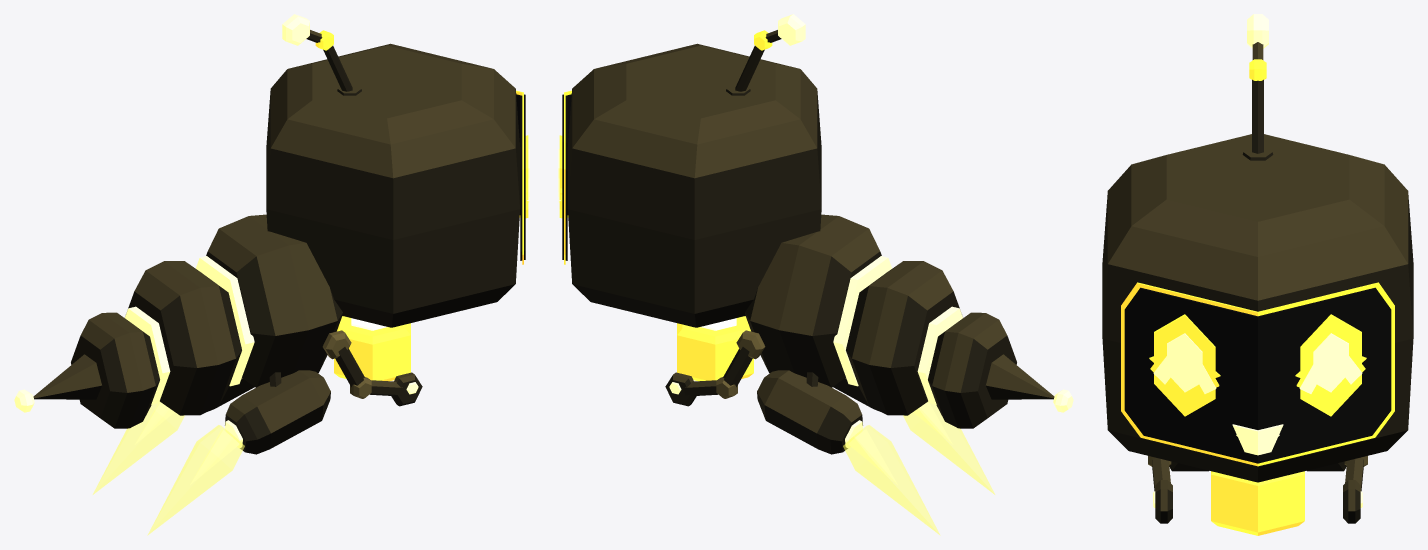
The model's file is buzz.glb.
3 renders of one model, left to right at view 1: azimuth 30°, elevation 25°; view 2: azimuth 150°, elevation 25°; view 3: azimuth 270°, elevation 25°, orthographic. The views are drawn at different scales.
Visible parts, largest first — view 1: Head, Body, JetR, FlameR, Job, FlameL, ArmR, Antenna, Visor; view 2: Head, Body, JetL, FlameL, Job, FlameR, ArmL, Antenna, Visor; view 3: Head, Visor, Job, EyeL, EyeR, Antenna, ArmL, ArmR, Mouth_Happy, EyeL_Happy, EyeR_Happy, Mouth.
Part boxes in pixels (x1,y1,x2,y2): Head: (266, 43, 520, 327); Body: (14, 214, 342, 428); JetR: (225, 370, 330, 454); FlameR: (147, 425, 244, 535); Job: (334, 316, 410, 381); FlameL: (93, 402, 184, 494); ArmR: (322, 330, 422, 406); Antenna: (282, 14, 361, 95); Visor: (516, 90, 525, 264); Head: (567, 43, 821, 327); Body: (745, 214, 1073, 428); JetL: (757, 370, 862, 454); FlameL: (843, 425, 940, 535); Job: (677, 316, 753, 381); FlameR: (903, 402, 994, 494); ArmL: (665, 330, 765, 406); Antenna: (726, 14, 805, 95); Visor: (562, 90, 571, 264); Head: (1102, 134, 1413, 482); Visor: (1121, 282, 1394, 466); Job: (1211, 471, 1304, 535); EyeL: (1300, 314, 1361, 416); EyeR: (1154, 314, 1215, 416); Antenna: (1242, 14, 1273, 160); ArmL: (1343, 456, 1367, 523); ArmR: (1148, 456, 1172, 523); Mouth_Happy: (1232, 424, 1283, 455); EyeL_Happy: (1296, 333, 1365, 393); EyeR_Happy: (1150, 333, 1219, 393); Mouth: (1236, 429, 1279, 454).
Bounding box in the file's own units: 0.8853 × 0.7587 × 0.3816.
